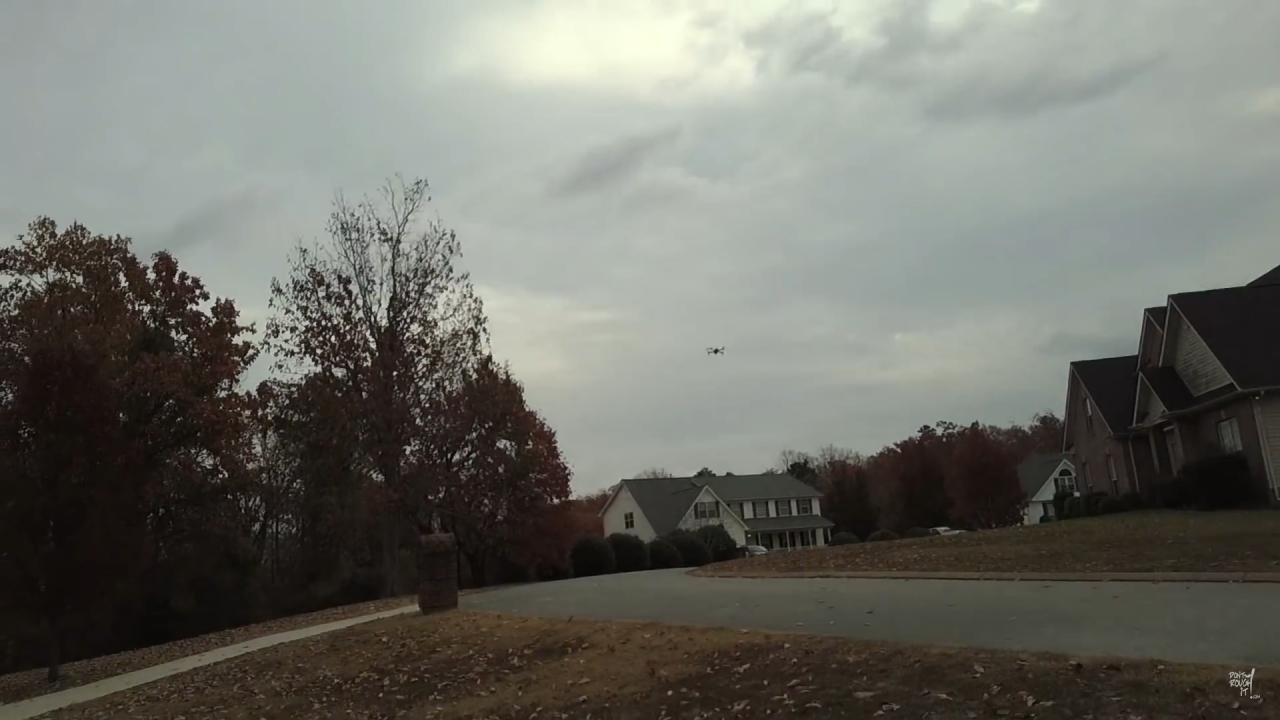Drone: (699, 340, 735, 362)
